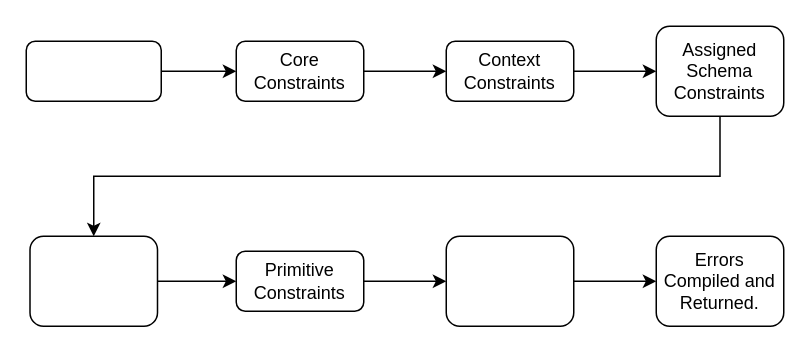
The diagram is 810 pixels wide and 353 high, and some of its shapes have lost their labels. The shapes that lost their labels are listed below. From the top down, each one's box as (x1, y1, x2, y2) in pixels, then its label:
(25, 40, 161, 101): Run Check
(28, 235, 158, 326): Fields and Sub-Fields Checked
(445, 235, 574, 326): Constraint Violations Reported as Errors
